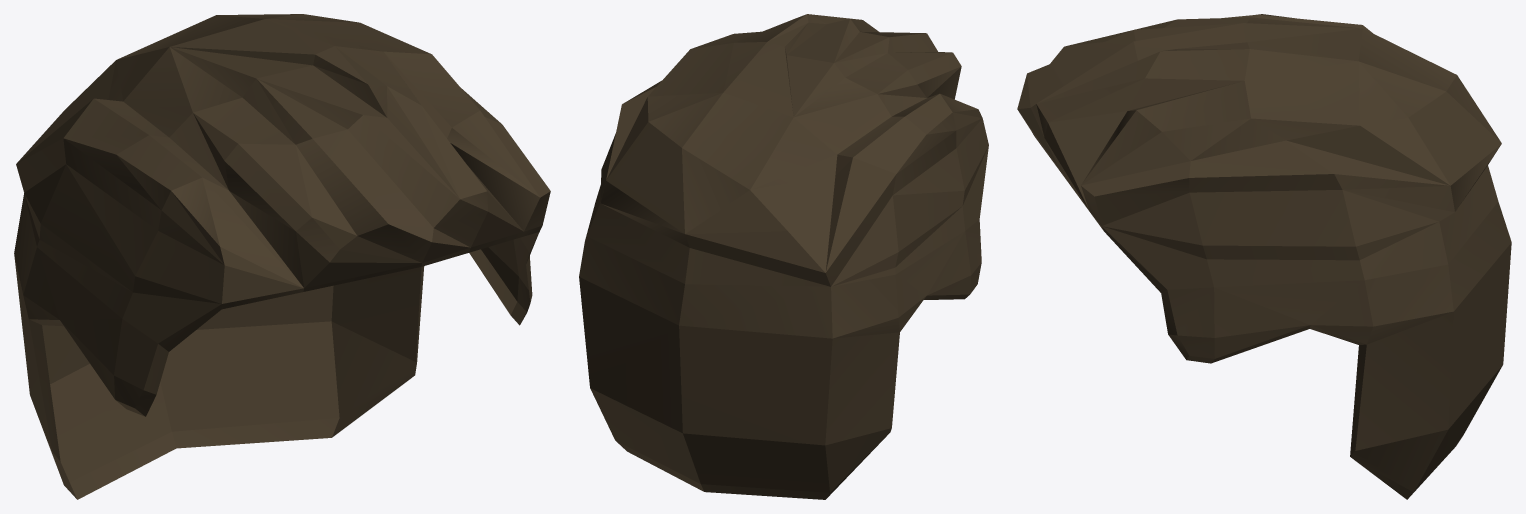
Rendered from Hair_04_SM.FBX.
3 renders of one model, left to right at view 1: azimuth 30°, elevation 25°; view 2: azimuth 150°, elevation 25°; view 3: azimuth 270°, elevation 25°, orthographic. The views are drawn at different scales.
Visible parts, largest first — view 1: Hair_04_SM; view 2: Hair_04_SM; view 3: Hair_04_SM.
Part boxes in pixels (x1,y1,x2,y2): Hair_04_SM: (14, 14, 550, 499); Hair_04_SM: (579, 14, 988, 499); Hair_04_SM: (1017, 14, 1511, 499).
Size of what is drawn, in the model's own units: 19.71 by 24.19 by 22.35.
